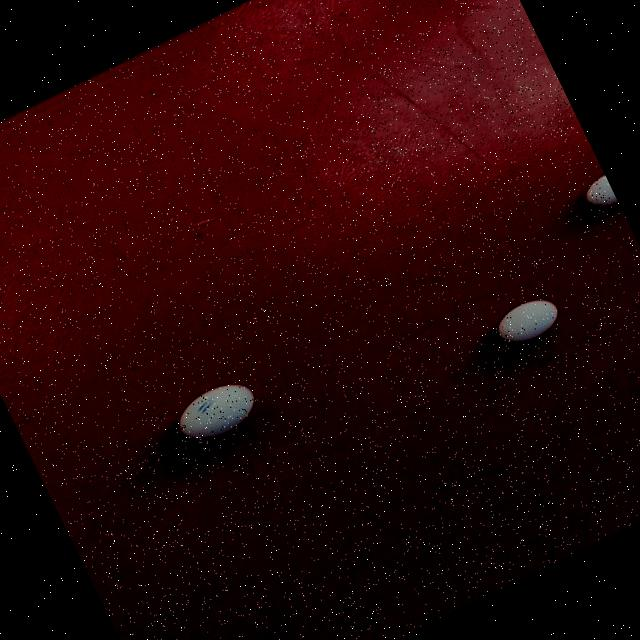ping-pong-ball: (156, 366, 270, 457), (479, 282, 577, 356), (570, 164, 620, 220)
